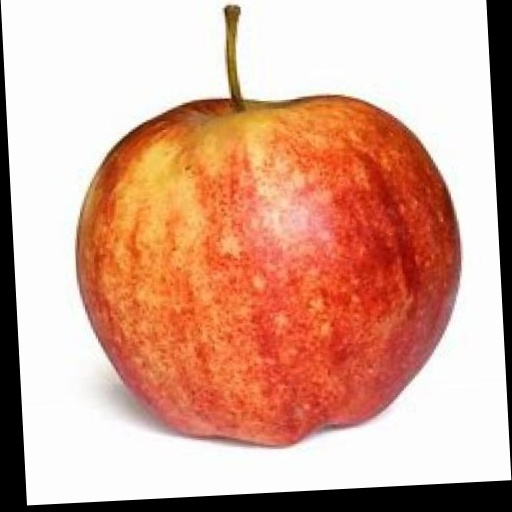fruit: (76, 7, 460, 445)
